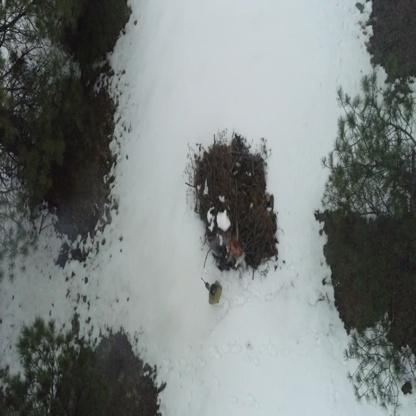Fire: (232, 237, 242, 256)
